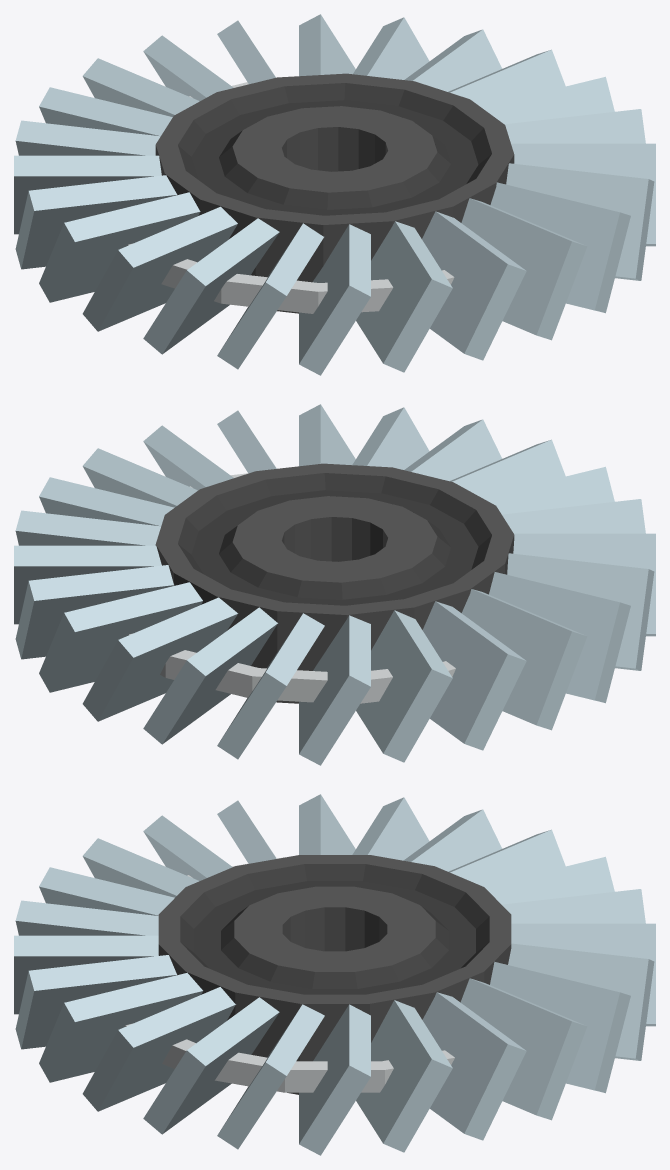
File: rotor_ss.obj
3 renders of one model, top to bottom at view 1: azimuth 30°, elevation 25°; view 2: azimuth 150°, elevation 25°; view 3: azimuth 270°, elevation 25°, orthographic.
Parts seen in each view (by area): view 1: 3, 2, 1, g, f, h, c, a, q, e, r, i (+16 smaller); view 2: 3, 2, 1, s, r, t, x, b, a, w, j, u (+16 smaller); view 3: 3, 2, 1, k, j, l, p, q, b, o, f, m (+16 smaller).
Boxes of the visible parts, <box> form: 3: <box>178,83,491,215</box>; 2: <box>155,73,514,313</box>; 1: <box>232,106,437,192</box>; g: <box>422,211,526,360</box>; f: <box>461,198,587,340</box>; h: <box>356,221,452,372</box>; c: <box>82,206,237,331</box>; a: <box>39,192,200,302</box>; q: <box>490,182,630,313</box>; e: <box>143,218,279,354</box>; r: <box>15,175,177,269</box>; i: <box>299,224,370,375</box>; 3: <box>178,473,491,605</box>; 2: <box>155,463,514,703</box>; 1: <box>232,496,437,582</box>; s: <box>422,601,526,750</box>; r: <box>461,589,587,730</box>; t: <box>356,610,452,762</box>; x: <box>82,597,238,721</box>; b: <box>39,582,202,692</box>; a: <box>489,572,630,703</box>; w: <box>143,607,277,744</box>; j: <box>15,565,174,659</box>; u: <box>299,615,370,765</box>; 3: <box>180,864,489,994</box>; 2: <box>158,855,511,1094</box>; 1: <box>234,886,435,971</box>; k: <box>422,992,526,1140</box>; j: <box>460,978,587,1120</box>; l: <box>356,1000,452,1152</box>; p: <box>82,987,235,1111</box>; q: <box>39,972,202,1082</box>; b: <box>490,961,630,1093</box>; o: <box>143,997,279,1134</box>; f: <box>15,955,176,1049</box>; m: <box>299,1004,370,1155</box>.
Bounding box in the file's own units: 1.59 × 0.25 × 1.59.
